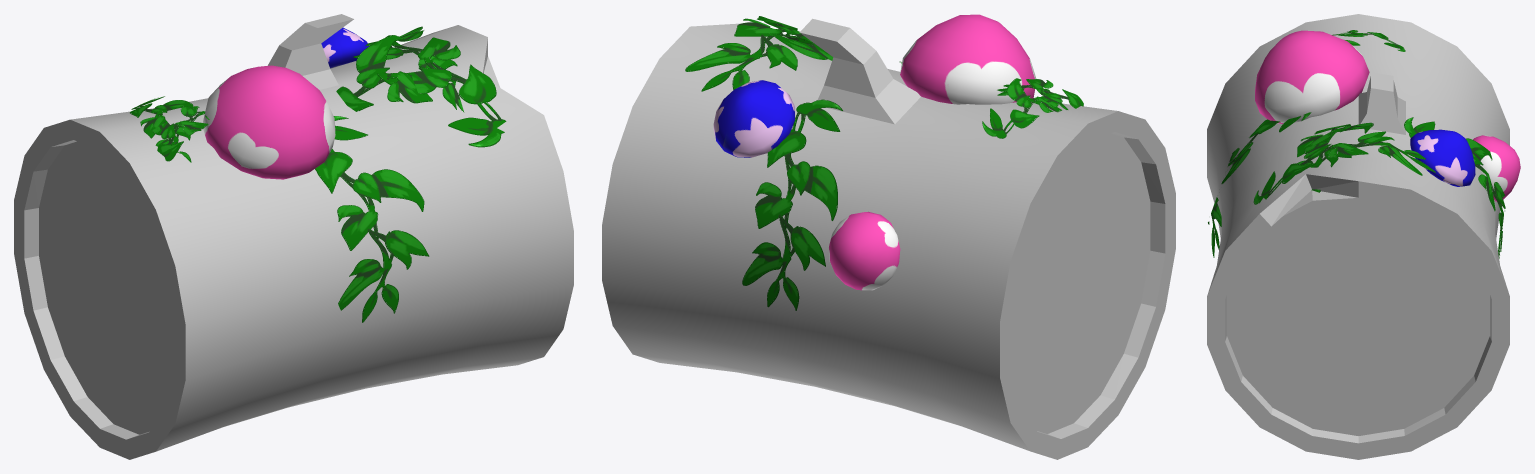
The model's file is tron arbre.fbx.
3 views of the same model, side by side, from view 1: azimuth 30°, elevation 25°; view 2: azimuth 150°, elevation 25°; view 3: azimuth 270°, elevation 25° (orthographic). The views are drawn at different scales.
Visible parts, largest first — view 1: Cylinder001; view 2: Cylinder001; view 3: Cylinder001.
Part boxes in pixels (left/top/right/bottom): Cylinder001: left=14, top=14, right=573, bottom=459; Cylinder001: left=602, top=14, right=1175, bottom=459; Cylinder001: left=1207, top=14, right=1520, bottom=459.
Size of the model in its own units: 10.61 by 9.45 by 8.47.
